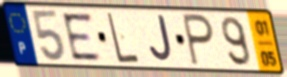5: (30, 9, 68, 64)
9: (219, 15, 253, 68)
E: (59, 11, 104, 63)
J: (148, 14, 175, 65)
L: (105, 11, 141, 65)
P: (180, 12, 216, 69)
